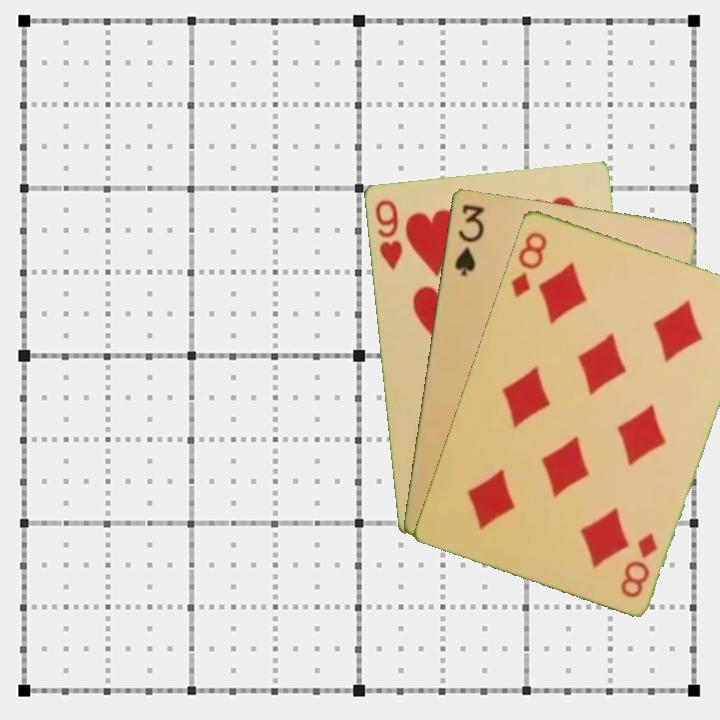3s: (450, 200, 486, 279)
8d: (507, 227, 550, 300), (616, 529, 660, 600)
9h: (371, 195, 405, 272)
